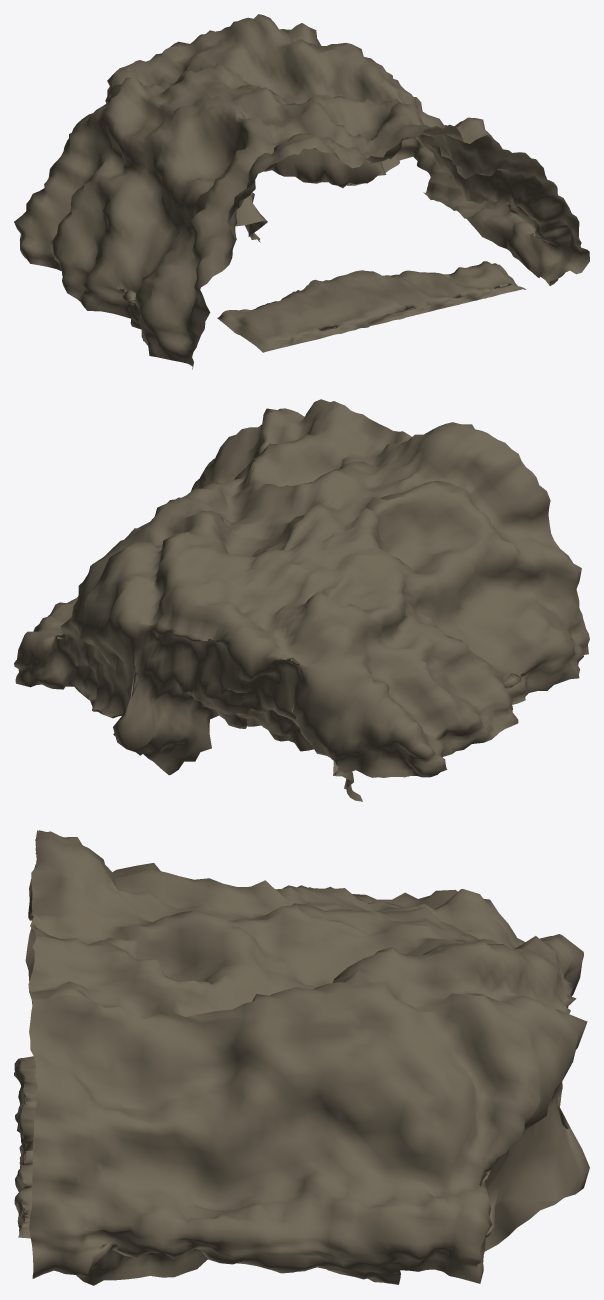
File: Demon lake.fbx
3 views of the same model, one above another, from view 1: azimuth 30°, elevation 25°; view 2: azimuth 150°, elevation 25°; view 3: azimuth 270°, elevation 25° (orthographic). The views are drawn at different scales.
Parts seen in each view (by area): view 1: Plane.005, Plane; view 2: Plane.005; view 3: Plane.005, Plane.
Part boxes in pixels (x1,y1,x2,y2): Plane.005: (14, 14, 589, 369); Plane: (217, 261, 525, 352); Plane.005: (14, 399, 589, 801); Plane.005: (25, 830, 589, 1285); Plane: (14, 1056, 37, 1238).
Bounding box in the file's own units: 2446 × 1399 × 2174.
